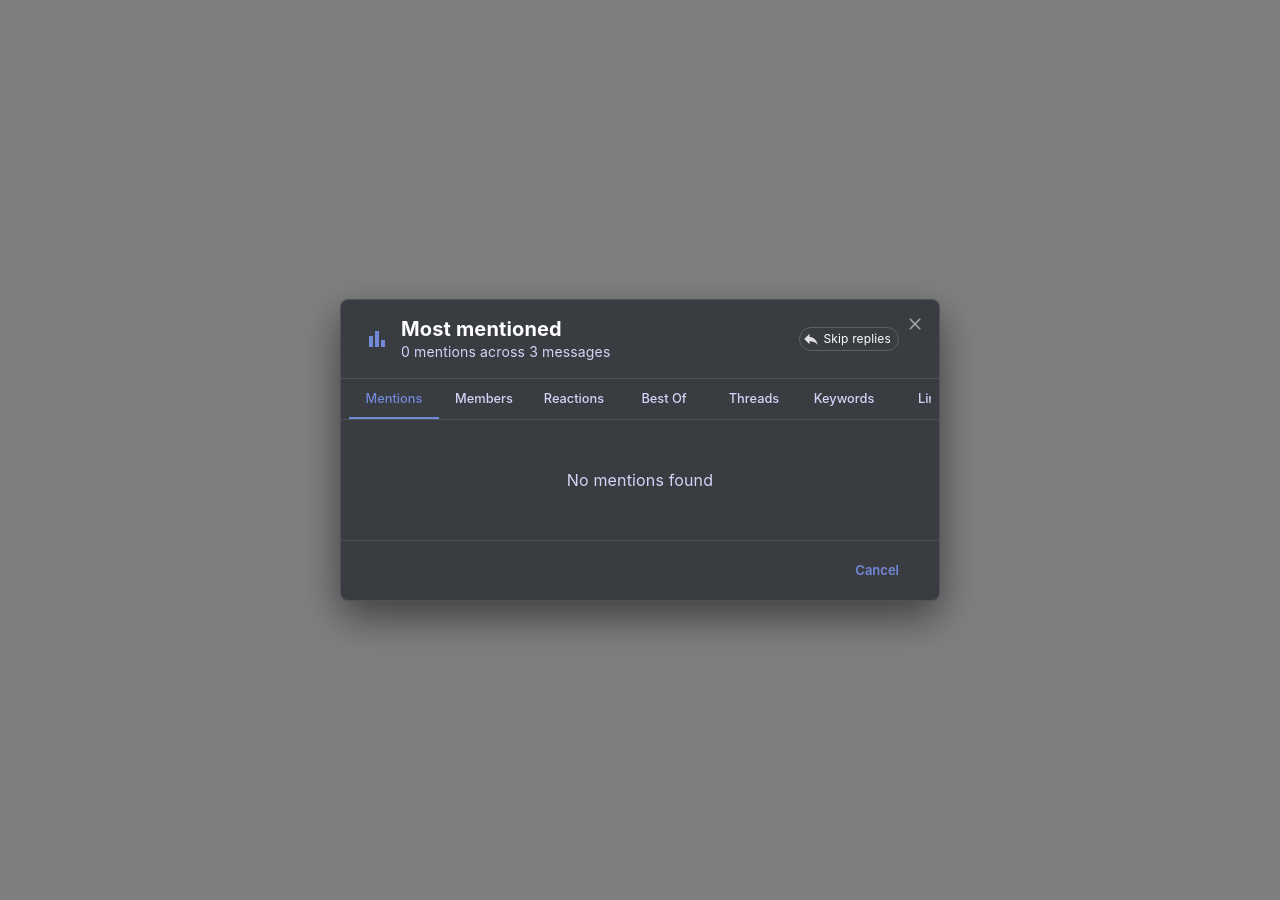
Scenario: AnalyticsModal › other reports › Threads uses the thread names and skips the container channel
Click the tab "Threads" at [754, 399], box [709,379,799,419]
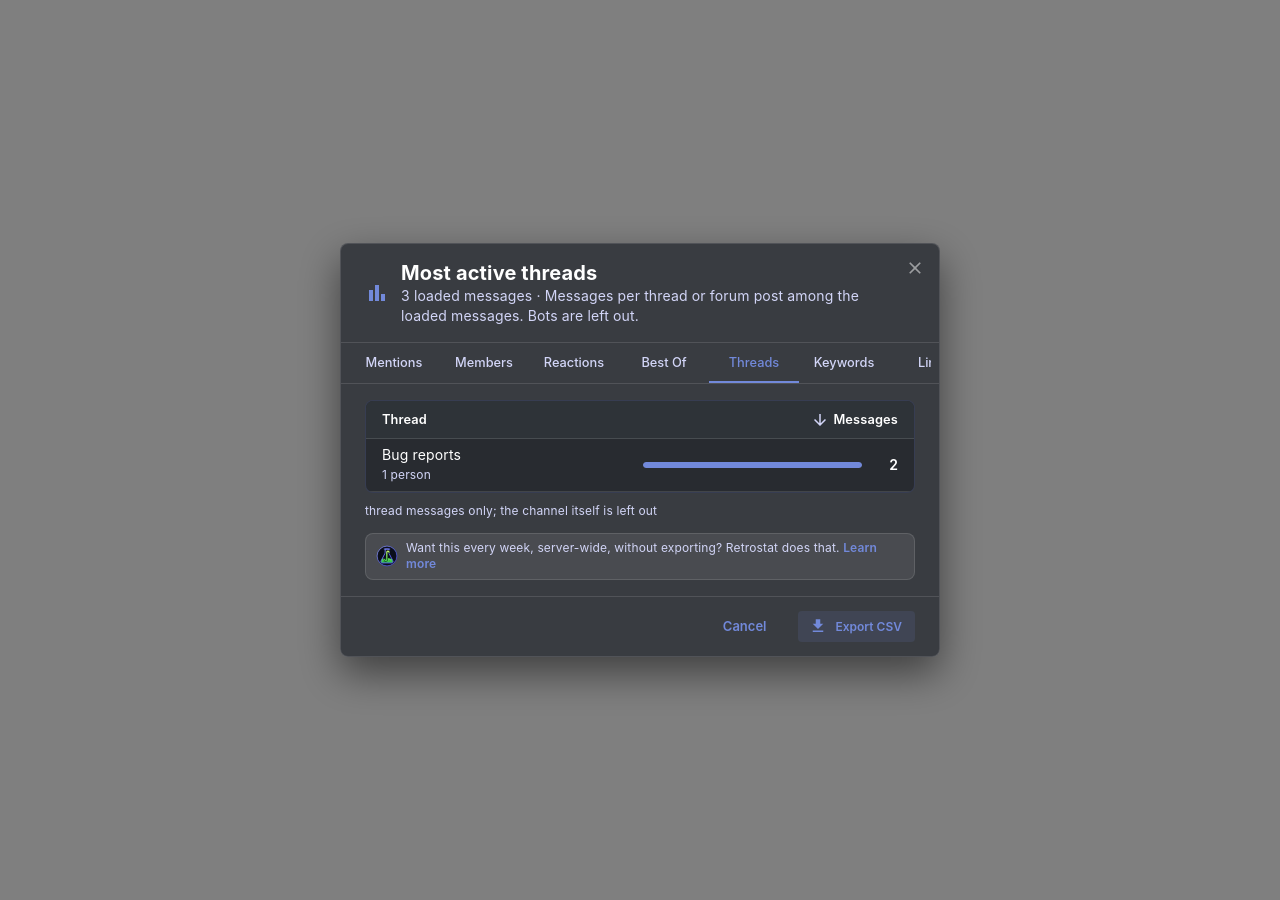
Result: the number of rows with test id "analytics-row" is 1 at [366,439,914,492]
Result: the row with test id "analytics-row" shows "Bug reports" at [382,446,461,463]
Result: the row with test id "analytics-row" shows "1 person" at [382,467,431,482]
